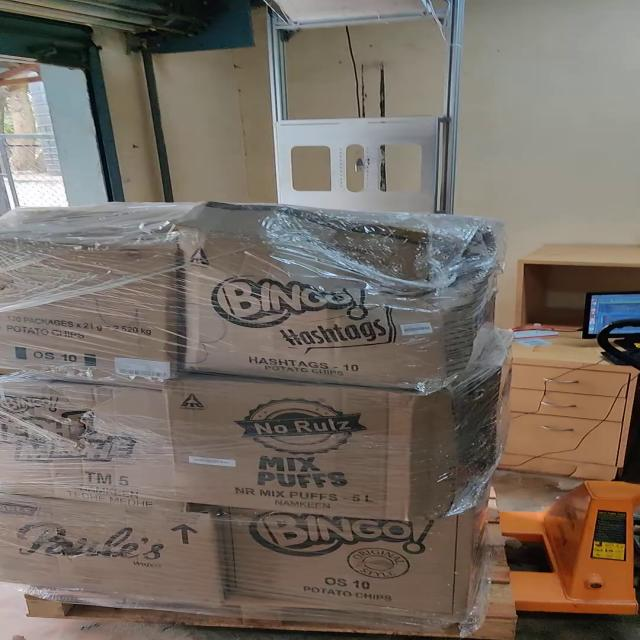squeeze: (243, 212, 494, 307)
tear: (36, 540, 105, 559), (43, 403, 105, 424)
